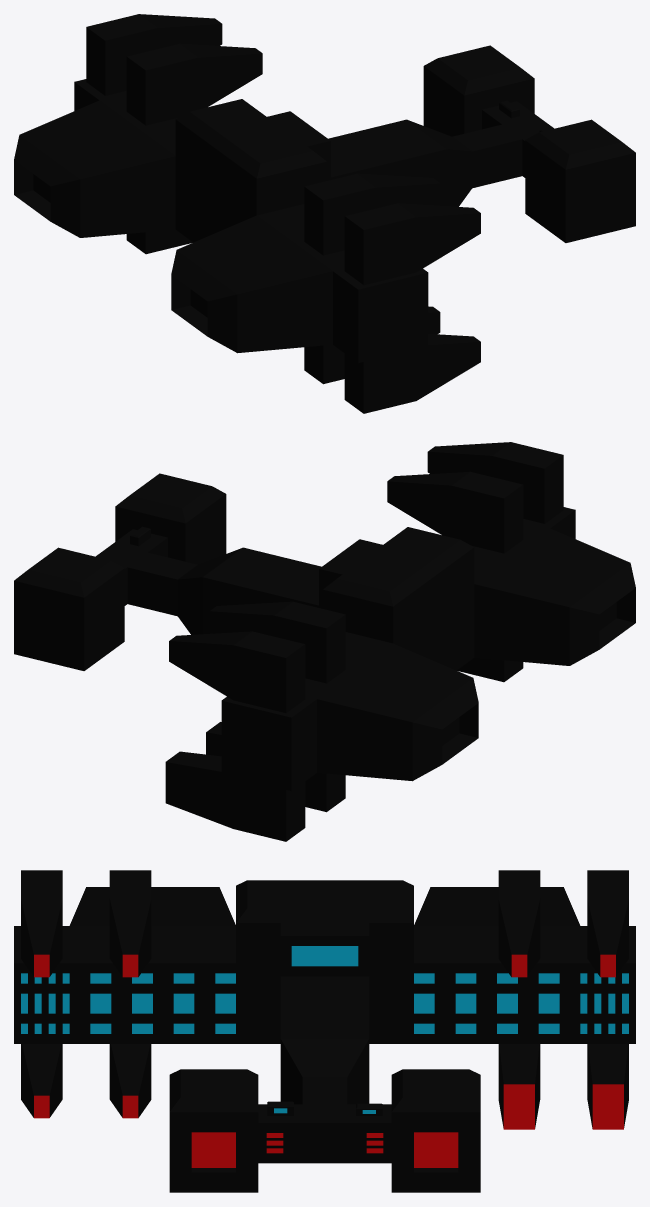
The model's file is Nave.glb.
3 renders of one model, top to bottom at view 1: azimuth 30°, elevation 25°; view 2: azimuth 150°, elevation 25°; view 3: azimuth 270°, elevation 25°, orthographic. The views are drawn at different scales.
Visible parts, largest first — view 1: Cube.005, Cube, Cube.001, Cube.004, Cube.003, Cube.002; view 2: Cube.005, Cube.001, Cube, Cube.004, Cube.003, Cube.002; view 3: Cube.005, Cube.001, Cube, Cube.002, Cube.003, Cube.004.
Boxes of the visible parts, left/top/right/bottom form: Cube.005: left=14, top=14, right=480, bottom=413; Cube: left=525, top=119, right=635, bottom=242; Cube.001: left=423, top=45, right=534, bottom=136; Cube.004: left=327, top=119, right=447, bottom=206; Cube.003: left=407, top=119, right=522, bottom=206; Cube.002: left=482, top=100, right=553, bottom=177; Cube.005: left=165, top=442, right=635, bottom=841; Cube.001: left=14, top=547, right=124, bottom=670; Cube: left=115, top=473, right=226, bottom=564; Cube.004: left=202, top=547, right=322, bottom=634; Cube.003: left=127, top=547, right=242, bottom=634; Cube.002: left=96, top=526, right=167, bottom=605; Cube.005: left=14, top=870, right=635, bottom=1129; Cube.001: left=391, top=1069, right=480, bottom=1192; Cube: left=169, top=1069, right=258, bottom=1192; Cube.002: left=258, top=1101, right=391, bottom=1163; Cube.003: left=280, top=1038, right=369, bottom=1104; Cube.004: left=280, top=976, right=369, bottom=1038.
Size of the model in its own units: 12.93 by 5 by 14.
